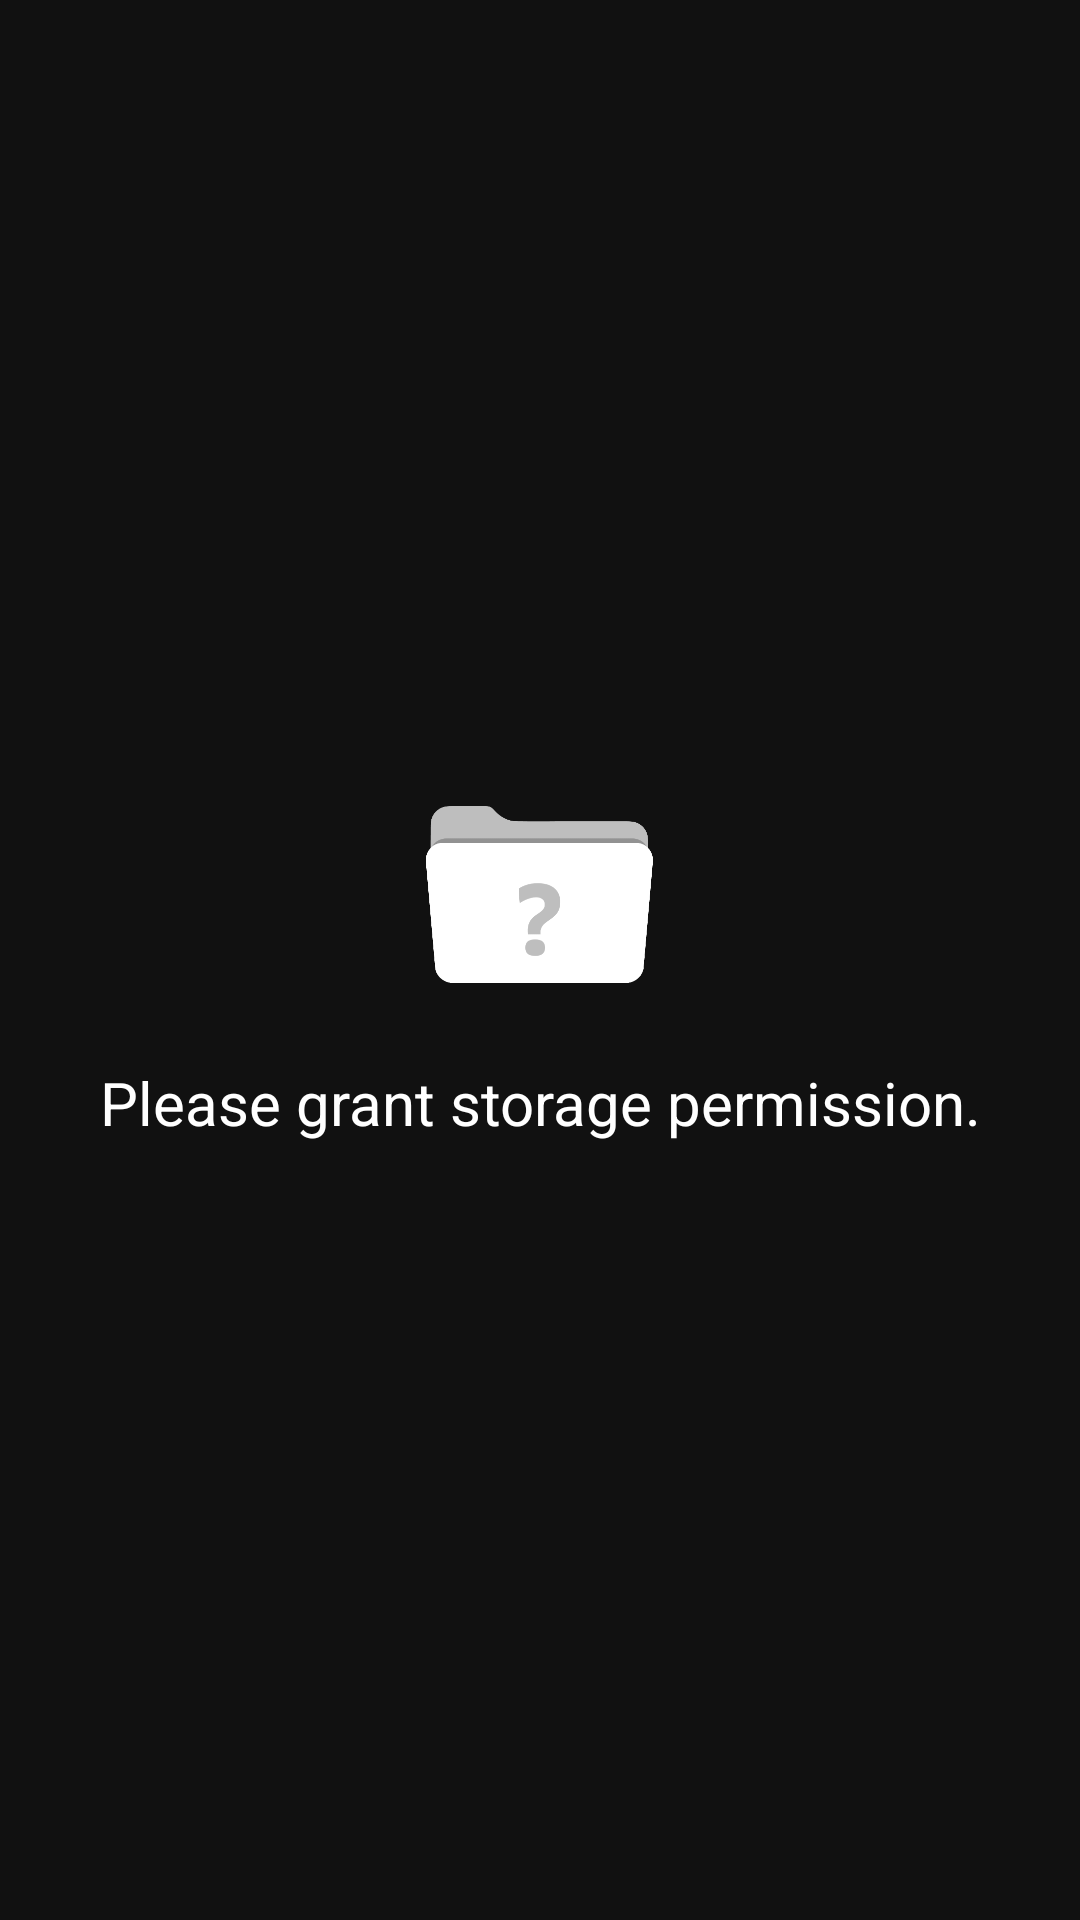

Locate icon controls on the screen. Image size 1080 × 1920, boxes as (x1, y1, x2, y2).
missing storage permission: (426, 806, 653, 983)
